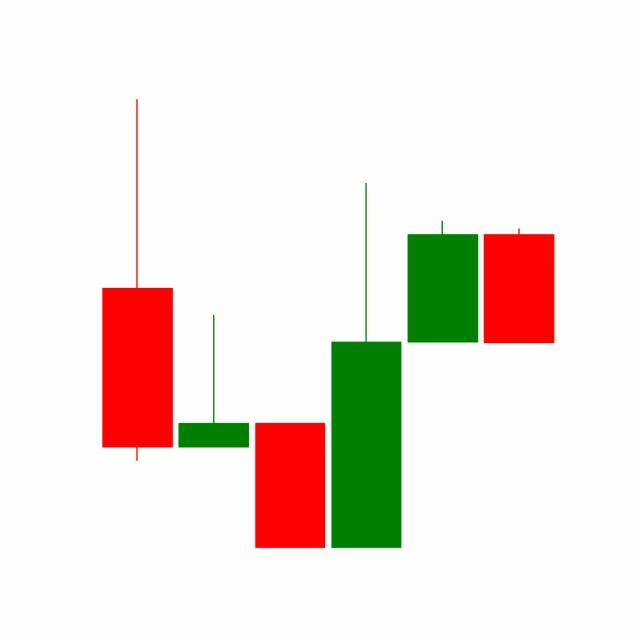Marubozu: (404, 219, 482, 344)
